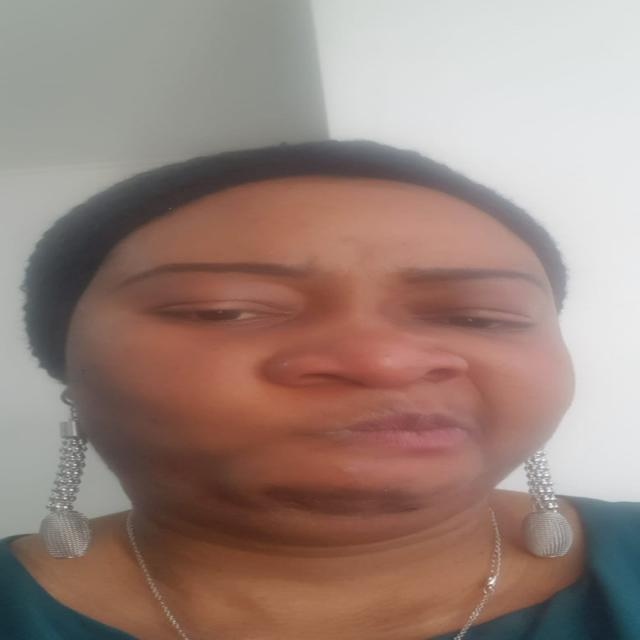sad: (87, 208, 594, 525)
